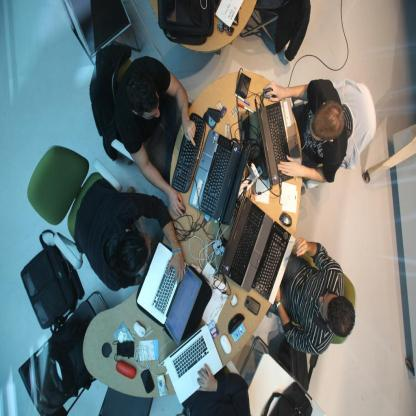board: (135, 240, 203, 345), (189, 128, 251, 225), (218, 187, 273, 294), (157, 324, 224, 404), (254, 98, 302, 188)
